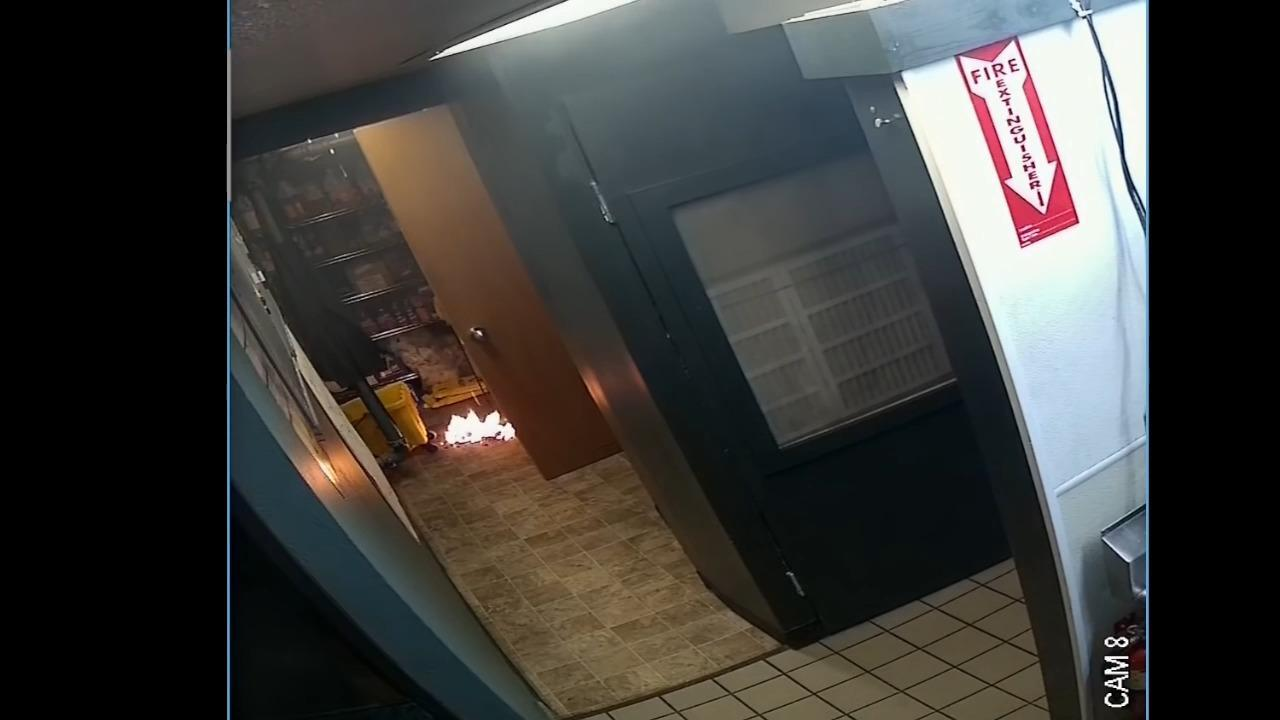fire: (444, 409, 516, 445)
